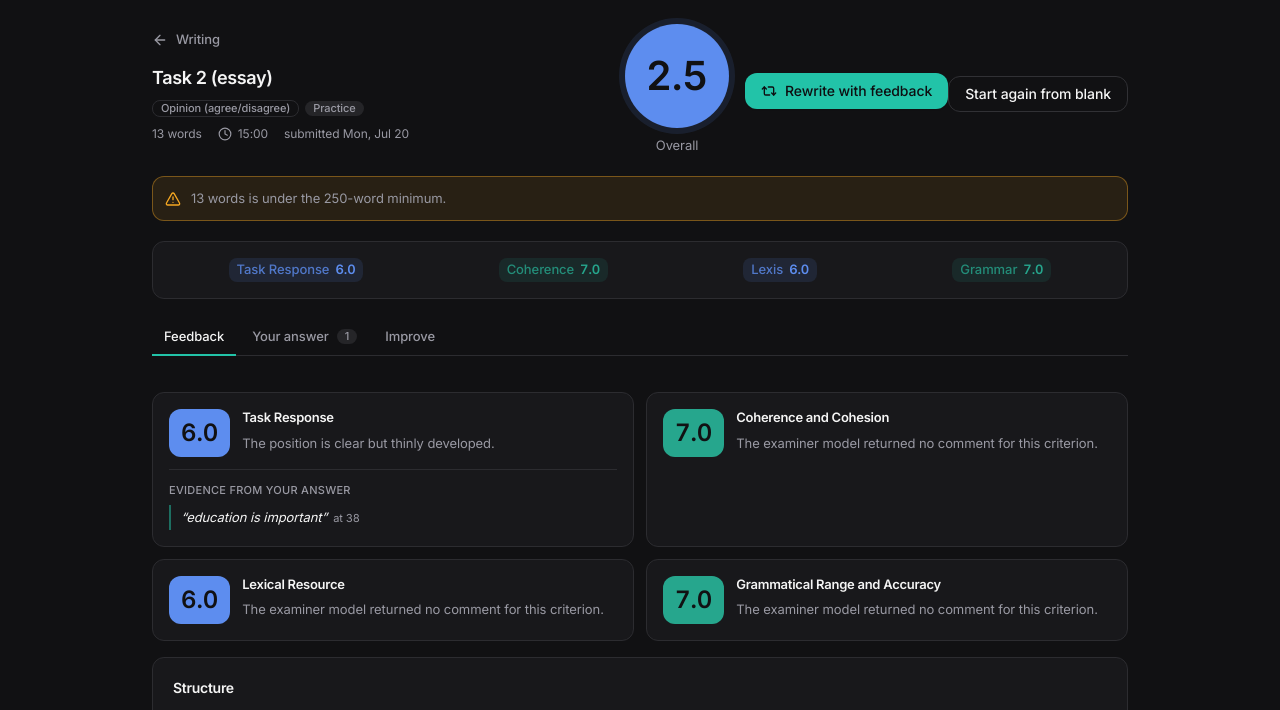
AttemptReport › renders the answer tab with highlights and unanchored notes
The image size is (1280, 710).
Click the tab "Your answer 1": (305, 337) x1=240 y1=318 x2=369 y2=356
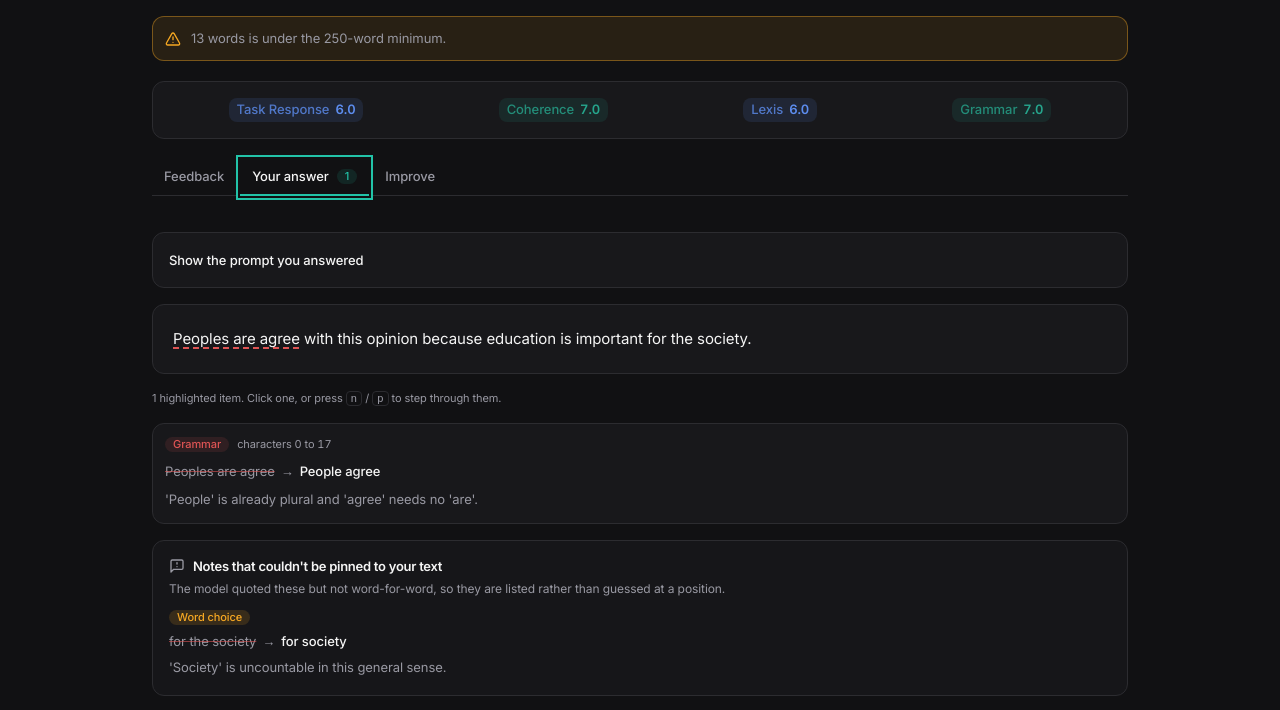
Result: the button named "error: Grammar:" is shown at x1=173 y1=324 x2=300 y2=352
Result: the heading "Notes that couldn't be pinned to your text" is shown at x1=169 y1=558 x2=442 y2=574
